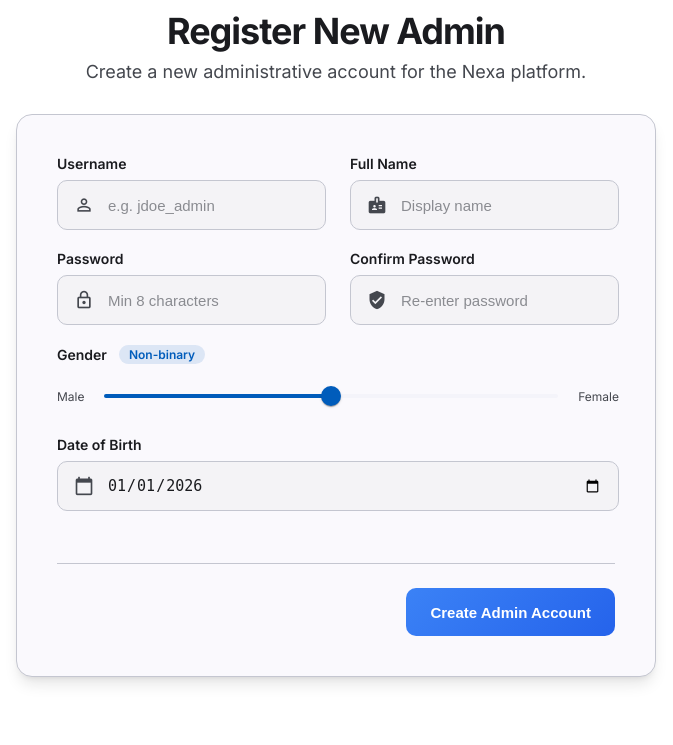
Admin Registration › a logged-in admin can successfully register a new admin account
In the field with id "reg-username": (208, 205) [106, 181, 309, 229], type "newadmin01"
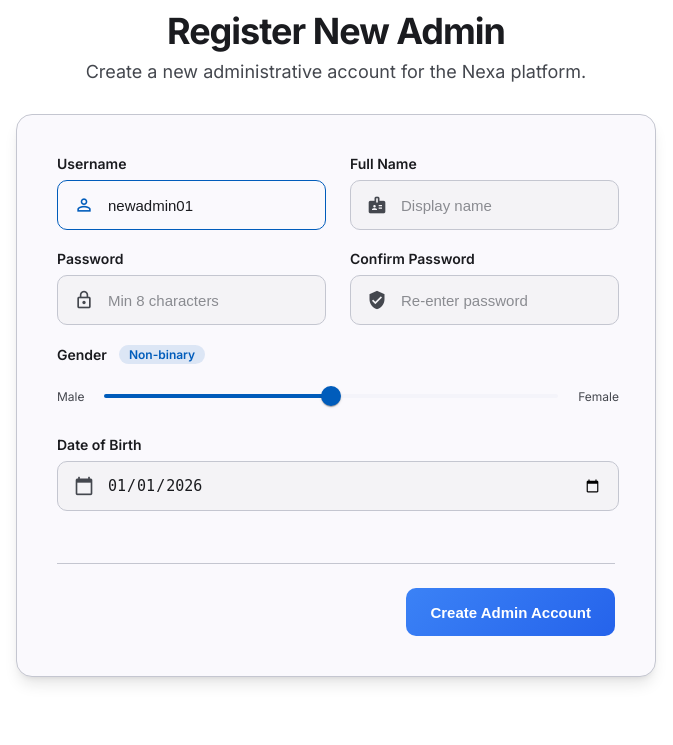
In the field with id "reg-name": (501, 205) [399, 181, 602, 229], type "New Admin One"
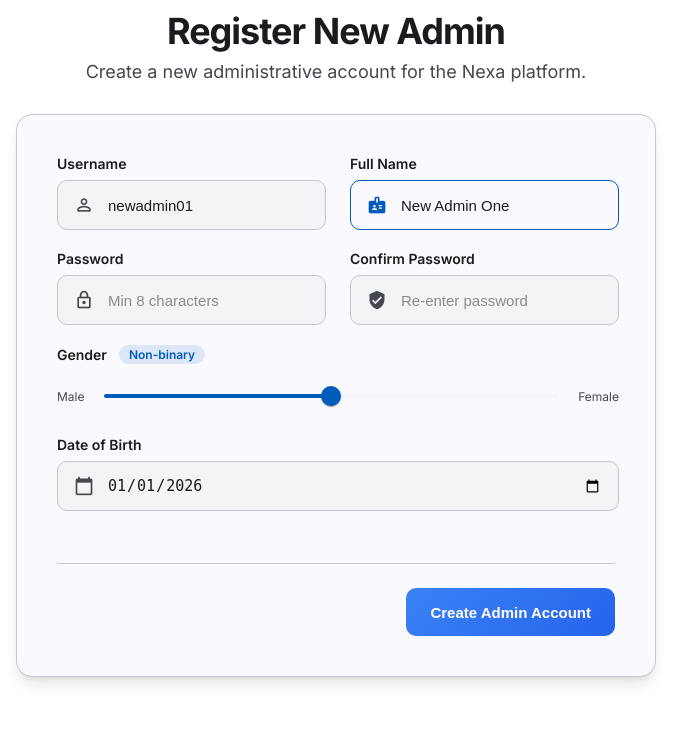
In the password field with id "reg-password": (208, 300) [106, 276, 309, 324], type "password123"
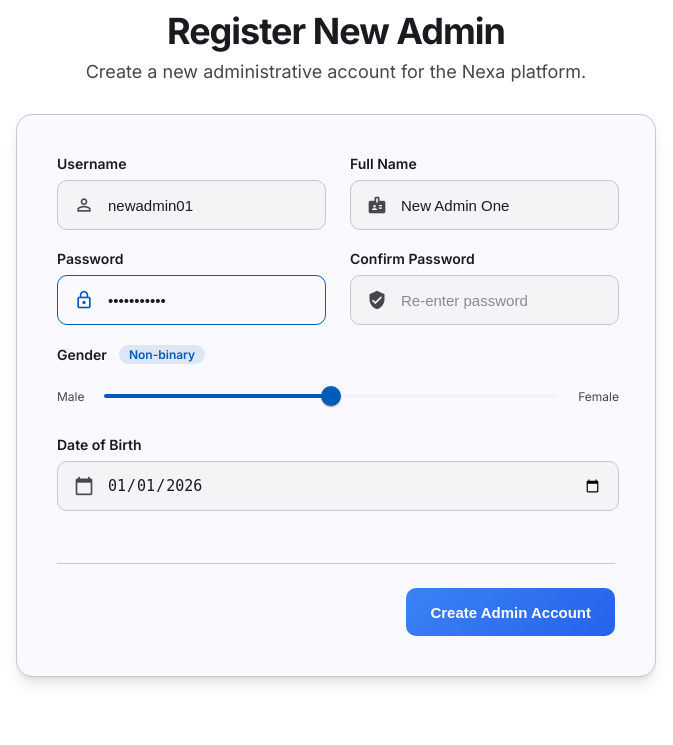
In the password field with id "reg-confirm": (501, 300) [399, 276, 602, 324], type "password123"
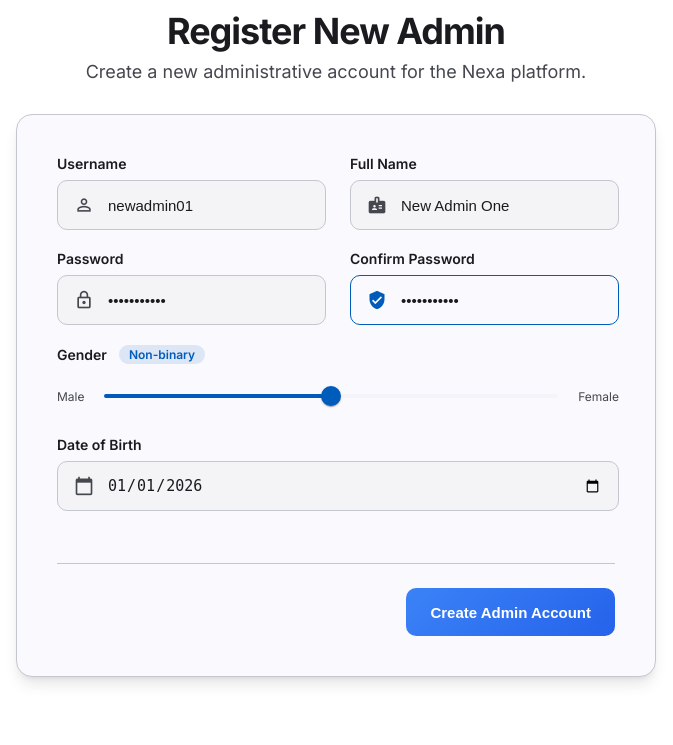
Click the button "Create Admin Account": (511, 612) [406, 588, 615, 636]
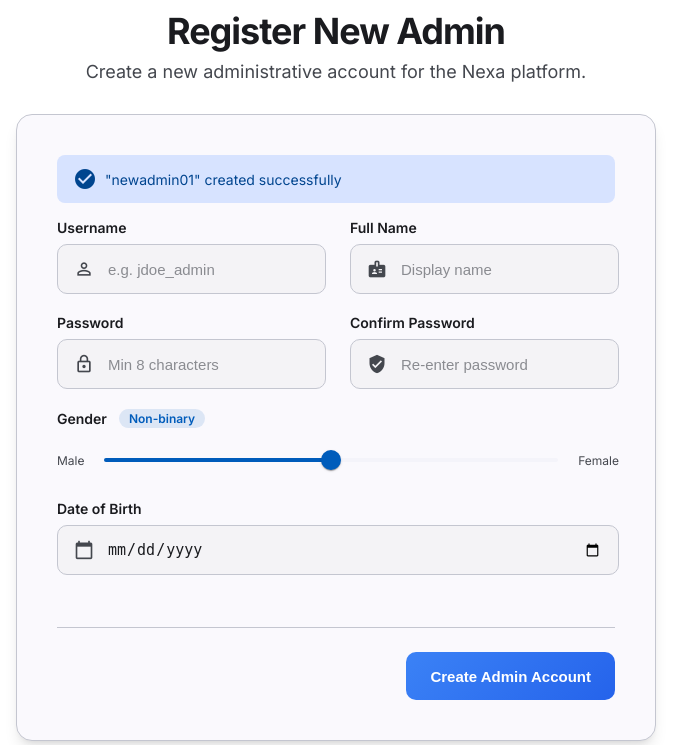
Expected: the text "\"newadmin01\" created successfully" is shown, [57, 155, 615, 203]
